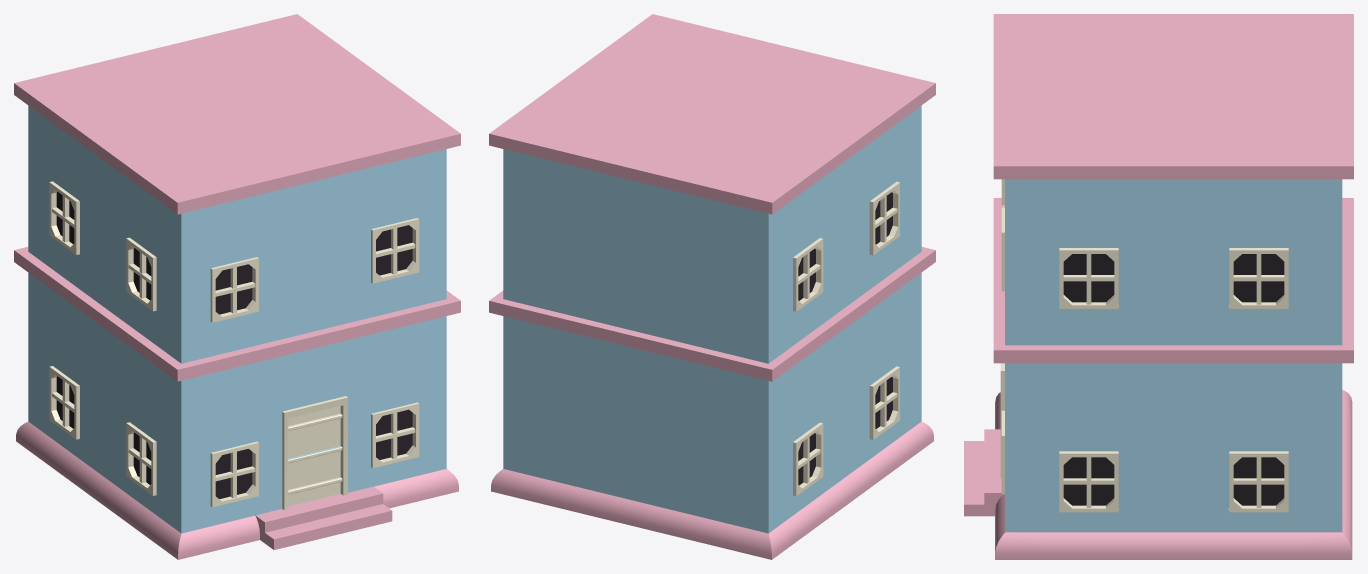
File: house blue 2nd flor.fbx
The picture shows the model from 3 angles, left to right: view 1: azimuth 30°, elevation 25°; view 2: azimuth 150°, elevation 25°; view 3: azimuth 270°, elevation 25°; orthographic projection. The views are drawn at different scales.
Parts seen in each view (by area): view 1: Cube; view 2: Cube; view 3: Cube.
Boxes of the visible parts, x1,y1,x2,y2 form: Cube: (14,14,460,559); Cube: (489,14,935,559); Cube: (964,14,1353,559).
Size of the model in its own units: 9.21 by 11.12 by 9.96.
